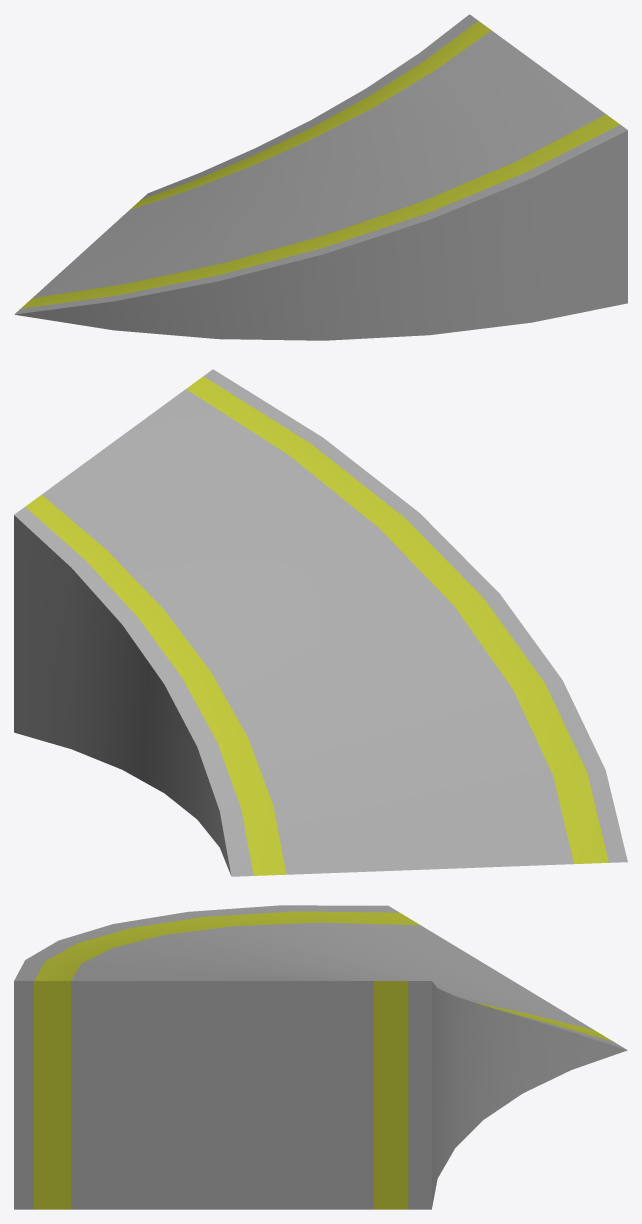
Rendered from rampe01.fbx.
The picture shows the model from 3 angles, top to bottom: view 1: azimuth 30°, elevation 25°; view 2: azimuth 150°, elevation 25°; view 3: azimuth 270°, elevation 25°; orthographic projection. The views are drawn at different scales.
Parts seen in each view (by area): view 1: rampe01; view 2: rampe01; view 3: rampe01.
Boxes of the visible parts, box(x1,y1,x2,y2) form: rampe01: box(14, 14, 627, 340); rampe01: box(14, 369, 627, 876); rampe01: box(14, 905, 627, 1209).
Size of the model in its own units: 2.29 by 0.8038 by 1.96.
